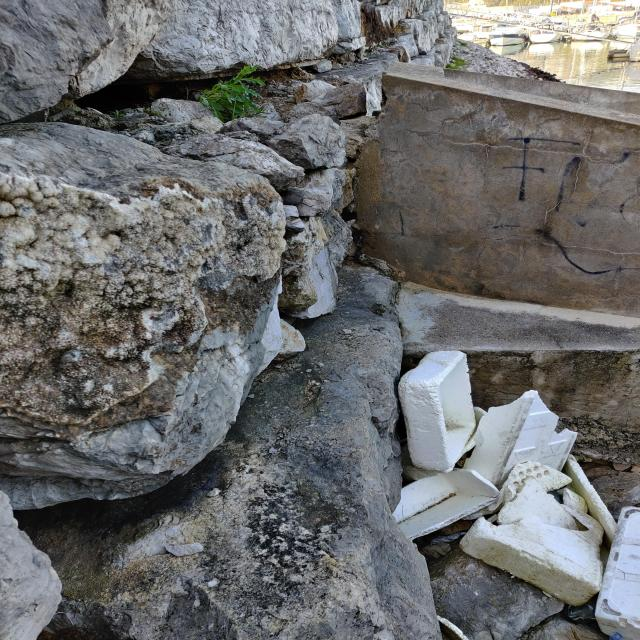litter: (400, 391, 578, 488), (461, 492, 607, 609), (481, 454, 623, 536), (399, 350, 476, 471), (392, 468, 499, 540), (589, 508, 639, 638)
